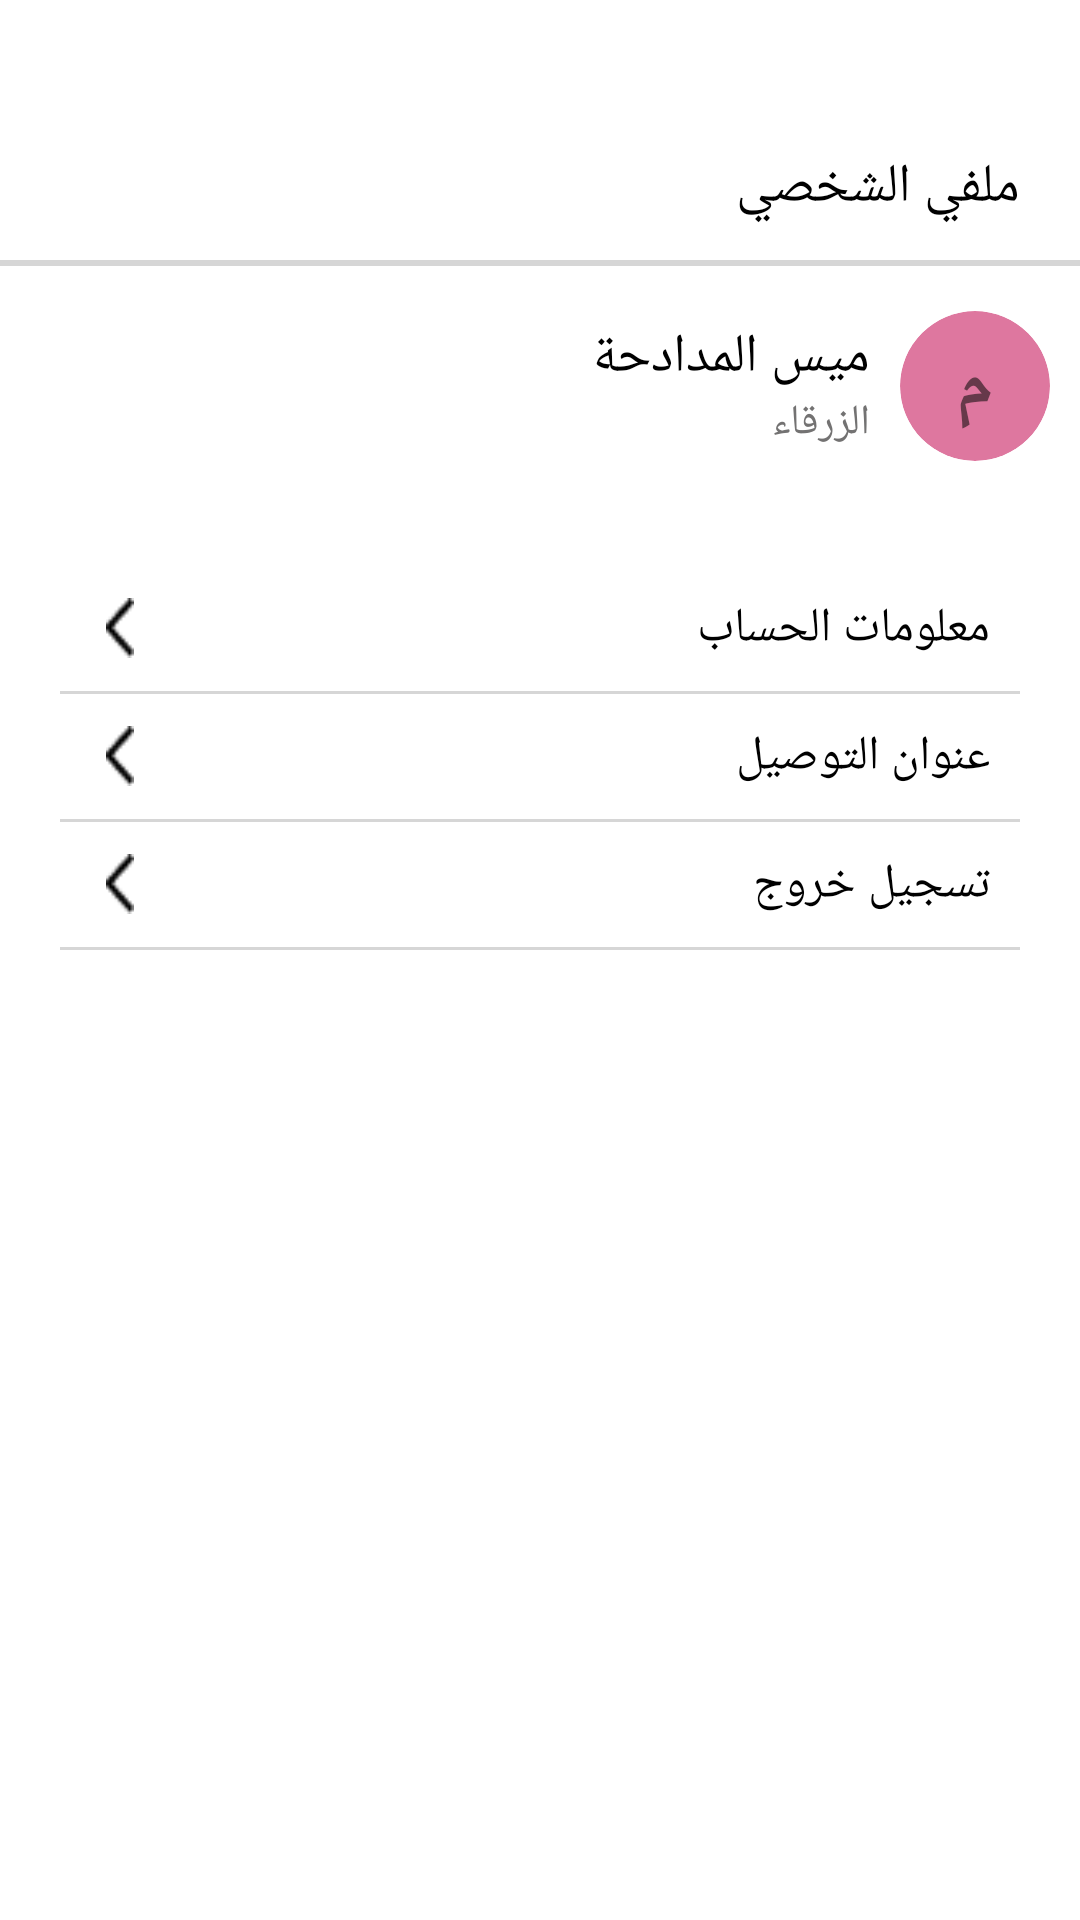

Locate icon controls on the screen. Image size 1080 x 1920, boxes as (x1, y1, x2, y2).
arrow to go: (106, 598, 134, 658), (106, 726, 134, 786), (106, 854, 134, 914)
